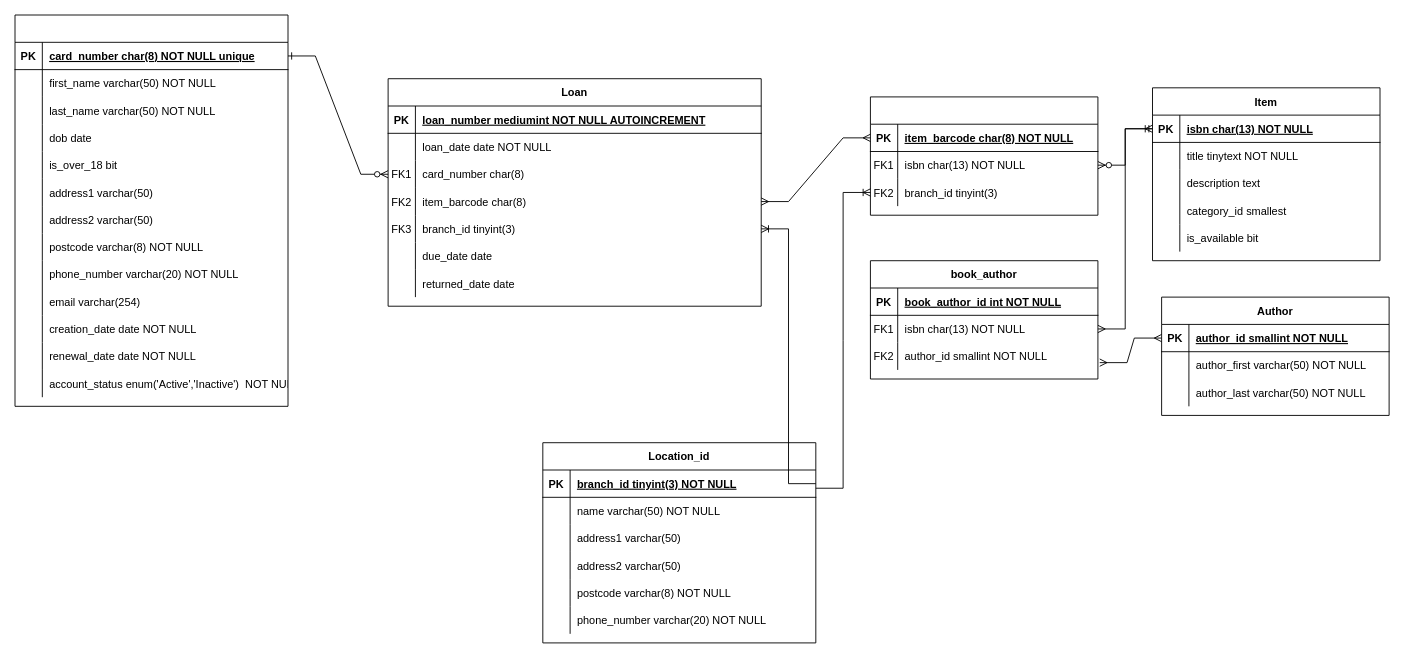
This 1404x658 diagram has some shape labels left out. The shapes that lost their labels are listed below. From the top down, each one's box as (x1, y1, x2, y2) in pixels, then its label:
(870, 96, 1098, 215): Copy
(14, 14, 288, 406): Members
